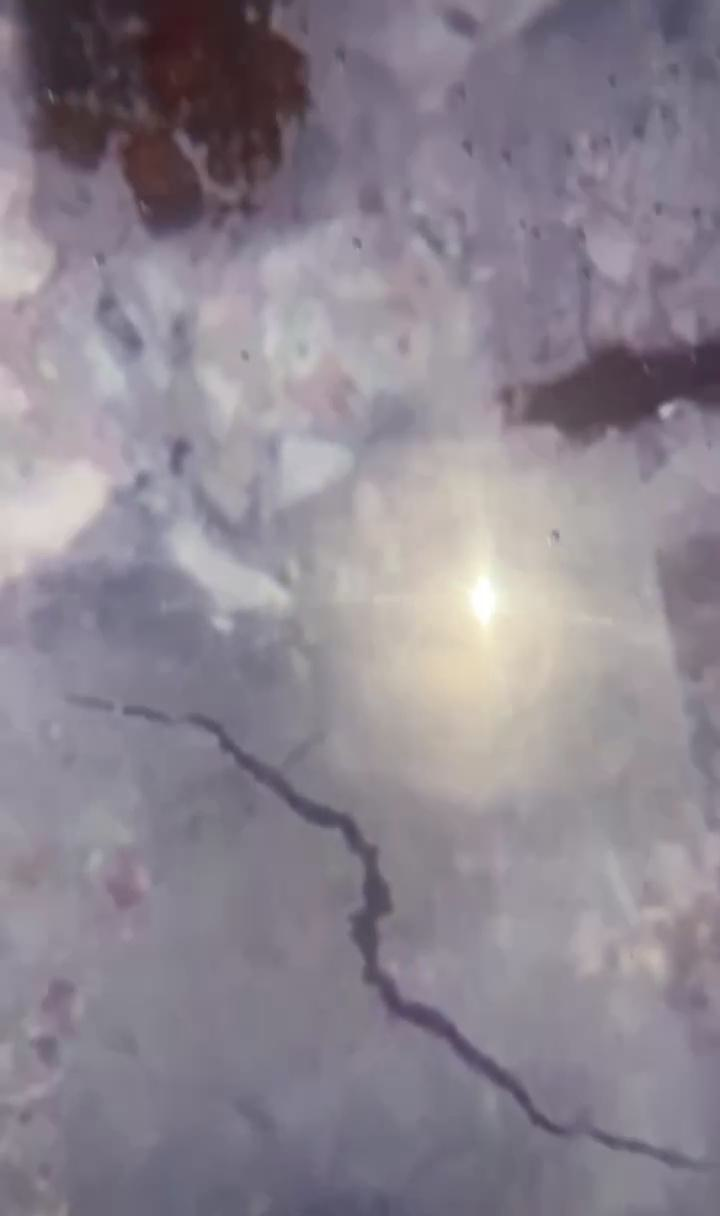Corrosion: (14, 1, 320, 238)
Crack: (51, 692, 720, 1176)
Exposed reinforcement: (497, 343, 720, 439)
